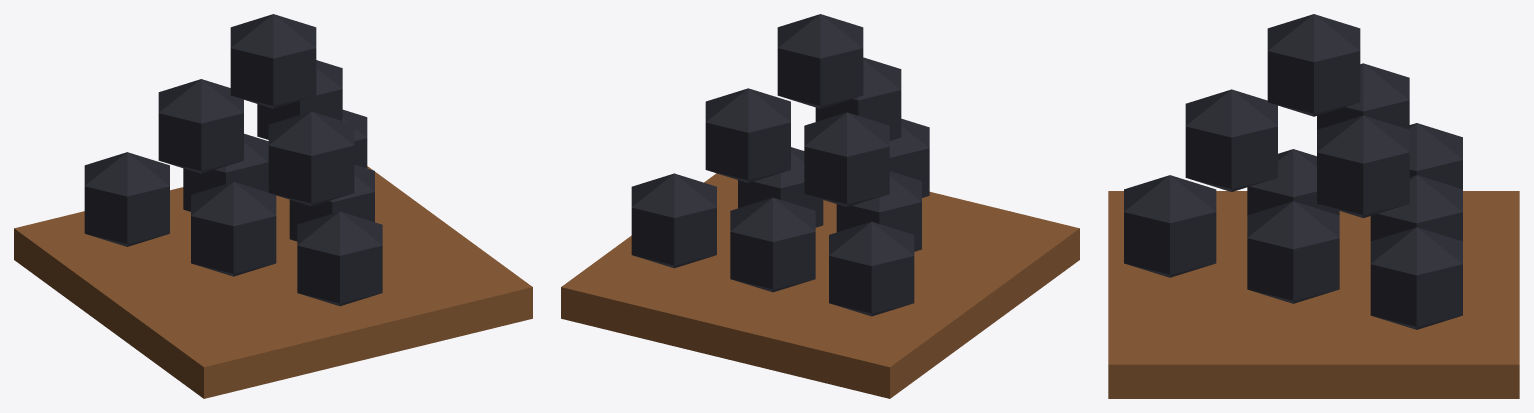
File: env_r13_cannonball_pyramid.glb
3 views of the same model, side by side, from view 1: azimuth 30°, elevation 25°; view 2: azimuth 150°, elevation 25°; view 3: azimuth 270°, elevation 25° (orthographic). The views are drawn at different scales.
Parts seen in each view (by area): view 1: env_r13_cannonball_pyramid; view 2: env_r13_cannonball_pyramid; view 3: env_r13_cannonball_pyramid.
Part boxes in pixels (x1,y1,x2,y2): env_r13_cannonball_pyramid: (14,14,532,398); env_r13_cannonball_pyramid: (561,14,1079,398); env_r13_cannonball_pyramid: (1108,14,1519,398).
Bounding box in the file's own units: 1 × 0.8 × 1.
Materials: 1 (1 with a texture image).
